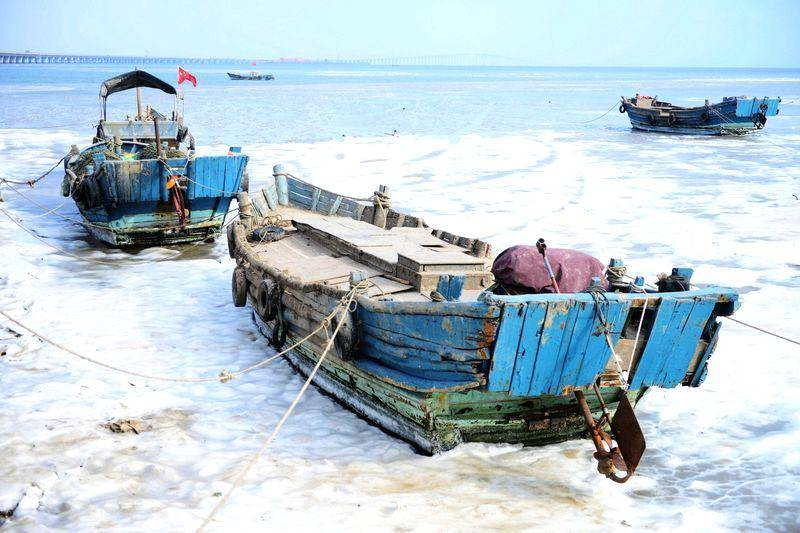otherboat: (228, 159, 743, 466), (45, 67, 251, 254), (607, 85, 786, 143)
